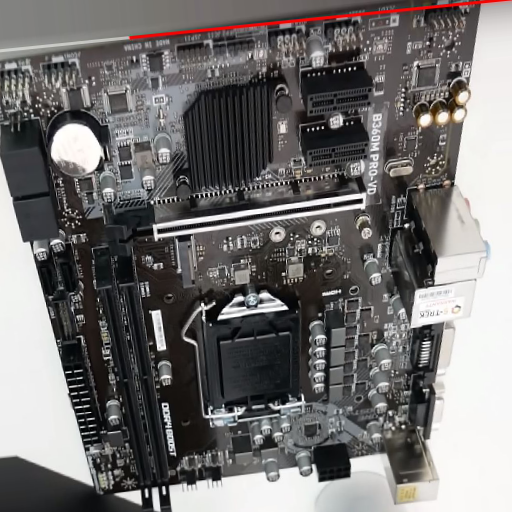CPU: (210, 285, 301, 432)
GPU: (107, 181, 368, 257)
MOTHERBOARD: (1, 1, 482, 494)
RAM: (91, 248, 174, 509)
